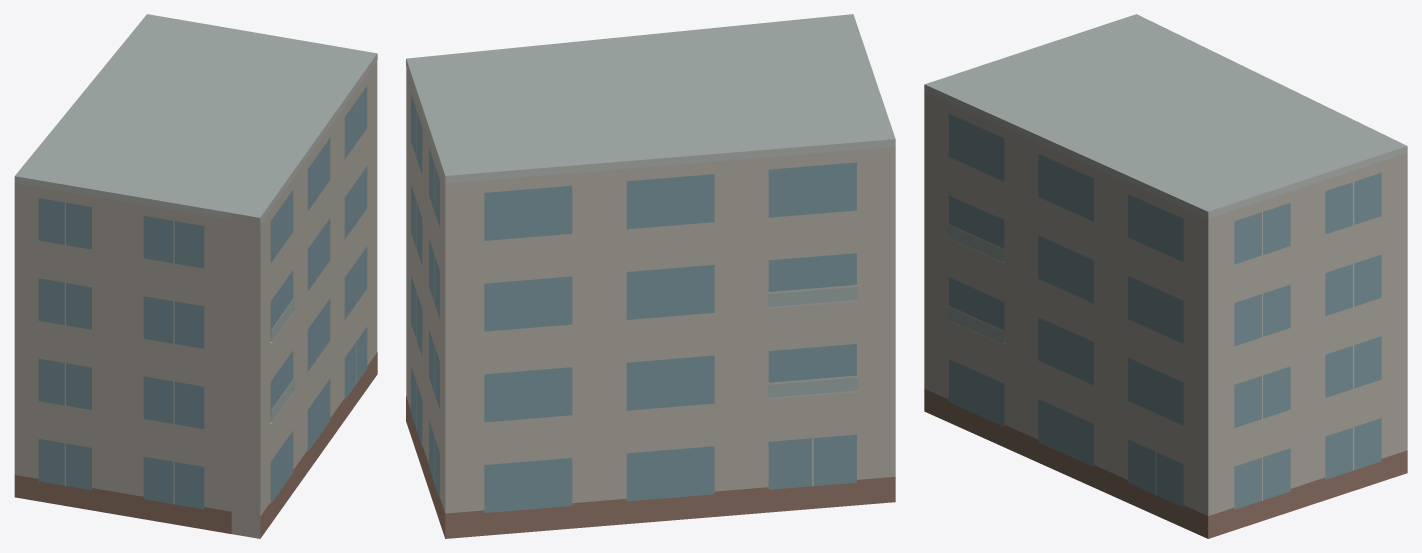
File: survey-upis-32805956.glb
3 views of the same model, side by side, from view 1: azimuth 30°, elevation 25°; view 2: azimuth 150°, elevation 25°; view 3: azimuth 270°, elevation 25° (orthographic). The views are drawn at different scales.
Visible parts, largest first — view 1: survey-upis-32805956.tmp; view 2: survey-upis-32805956.tmp; view 3: survey-upis-32805956.tmp.
Boxes of the visible parts, x1=… form: survey-upis-32805956.tmp: x1=14, y1=14, x2=377, y2=538; survey-upis-32805956.tmp: x1=406, y1=14, x2=895, y2=538; survey-upis-32805956.tmp: x1=924, y1=14, x2=1407, y2=538.
Bounding box in the file's own units: 15.12 × 11.65 × 15.6.
